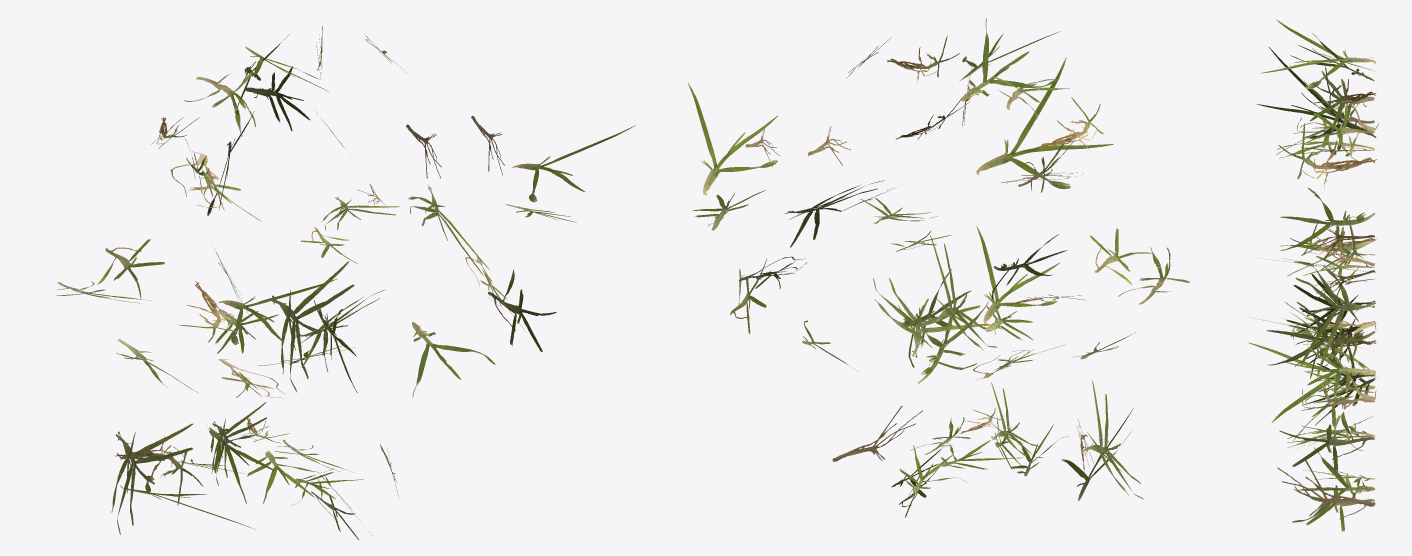
The model's file is Grass_01_Var2_LOD2.fbx.
3 renders of one model, left to right at view 1: azimuth 30°, elevation 25°; view 2: azimuth 150°, elevation 25°; view 3: azimuth 270°, elevation 25°, orthographic. The views are drawn at different scales.
Parts seen in each view (by area): view 1: Var2_LOD2; view 2: Var2_LOD2; view 3: Var2_LOD2.
Boxes of the visible parts, box(x1,y1,x2,y2) form: Var2_LOD2: box(56, 26, 635, 539); Var2_LOD2: box(688, 18, 1190, 517); Var2_LOD2: box(1248, 19, 1379, 531).
Bounding box in the file's own units: 90.07 × 80.02 × 25.45.
